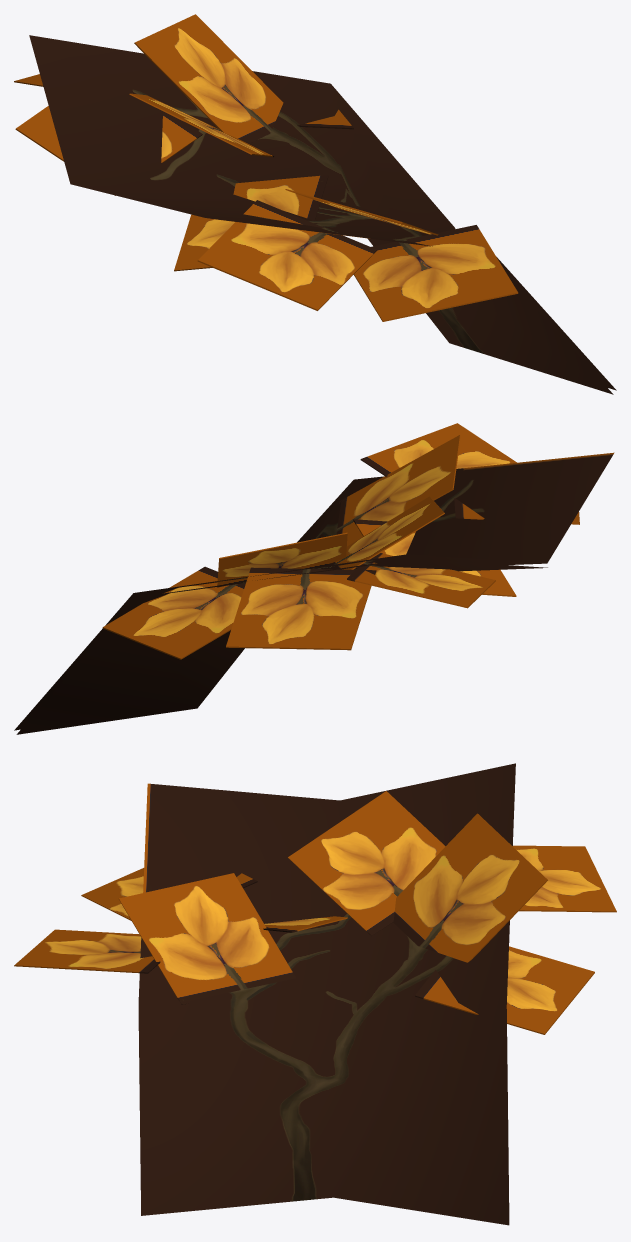
Rendered from bush_04c.fbx.
The picture shows the model from 3 angles, top to bottom: view 1: azimuth 30°, elevation 25°; view 2: azimuth 150°, elevation 25°; view 3: azimuth 270°, elevation 25°; orthographic projection. The views are drawn at different scales.
Parts seen in each view (by area): view 1: bush_04c; view 2: bush_04c; view 3: bush_04c.
Part boxes in pixels (x1,y1,x2,y2): bush_04c: (14,14,616,394); bush_04c: (14,423,614,734); bush_04c: (14,763,616,1225).
Bounding box in the file's own units: 5.79 × 3.64 × 6.83.
